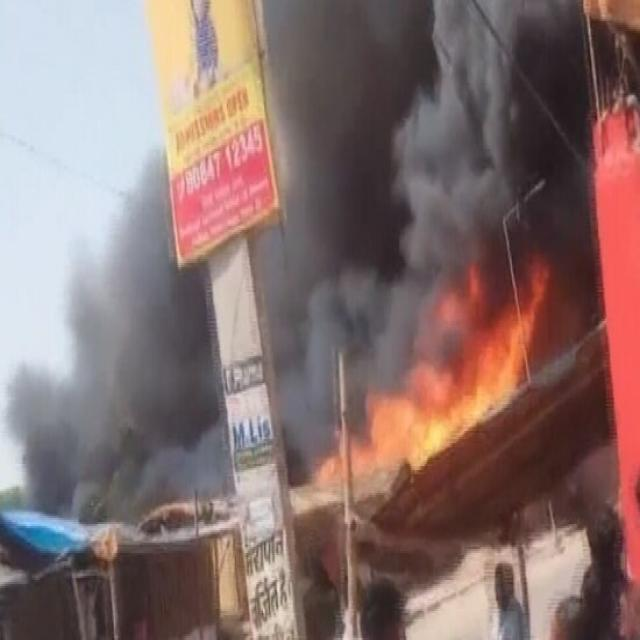fire: (314, 252, 550, 472)
